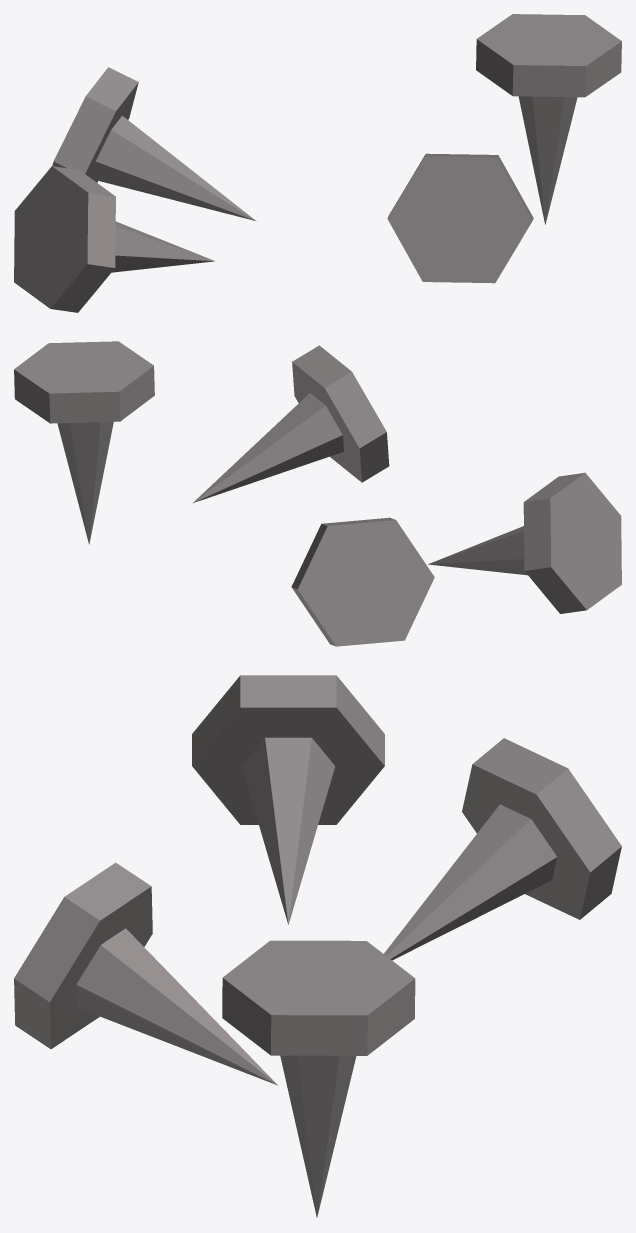
File: Nails.fbx
3 views of the same model, one above another, from view 1: azimuth 30°, elevation 25°; view 2: azimuth 150°, elevation 25°; view 3: azimuth 270°, elevation 25° (orthographic). The views are drawn at different scales.
Visible parts, largest first — view 1: Nails; view 2: Nails; view 3: Nails.
Part boxes in pixels (bbox=[...]): Nails: bbox=[14, 14, 621, 312]; Nails: bbox=[14, 341, 621, 646]; Nails: bbox=[14, 675, 621, 1217].
Size of the model in its own units: 16.72 by 5.08 by 11.39.
